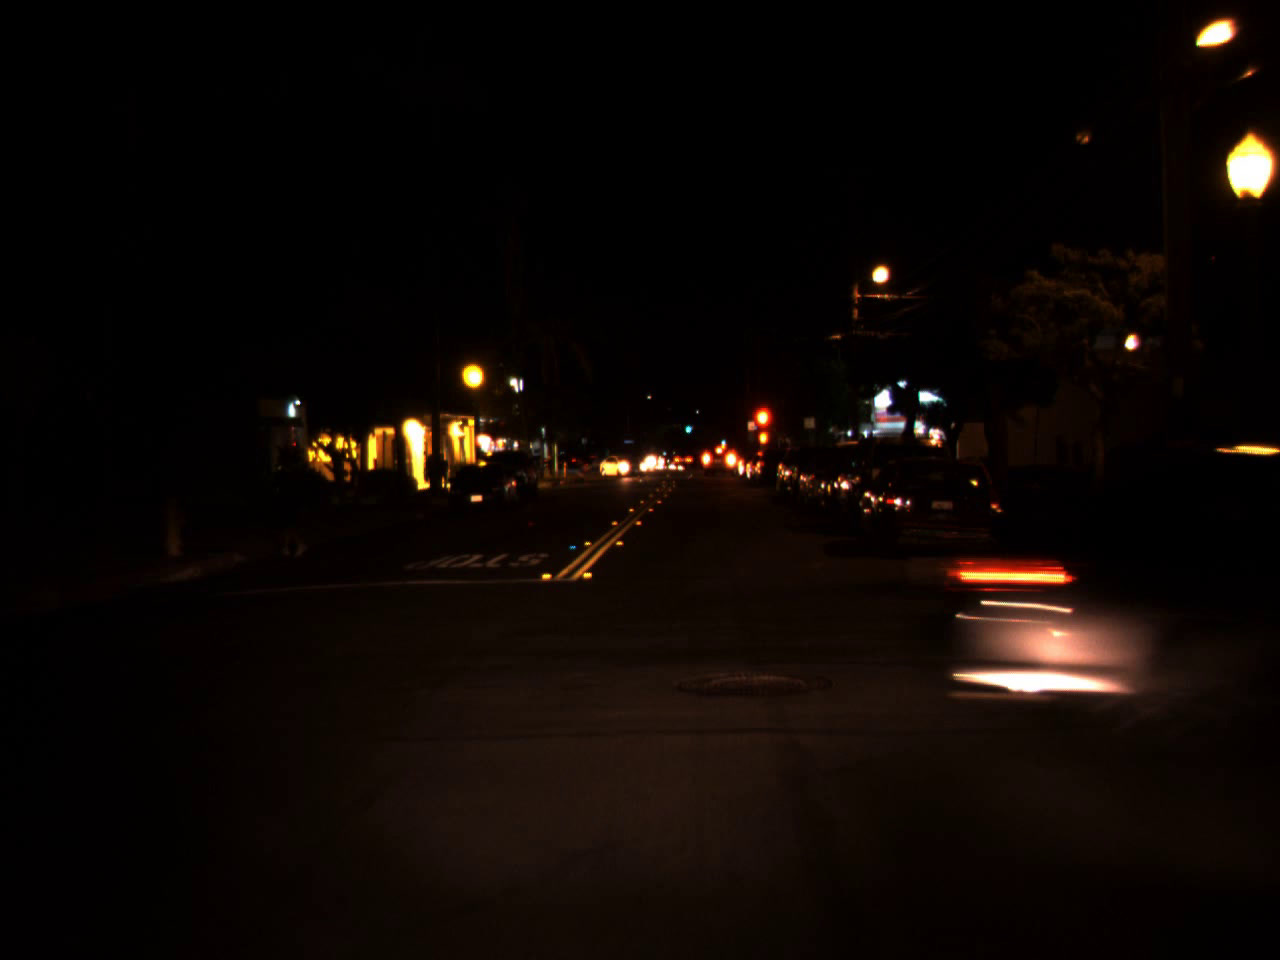go: (683, 417, 692, 435), (719, 434, 726, 446)
stop: (751, 403, 775, 457)
